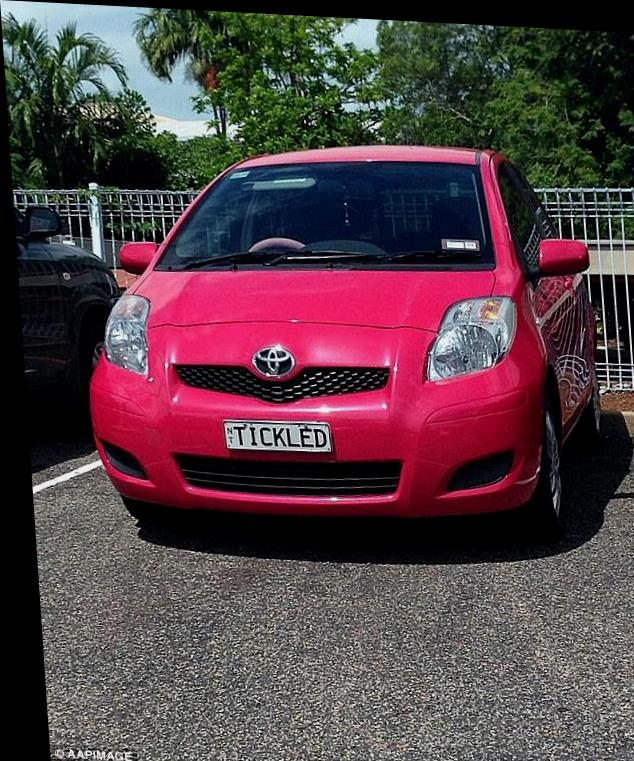License_Plate: (219, 416, 337, 459)
